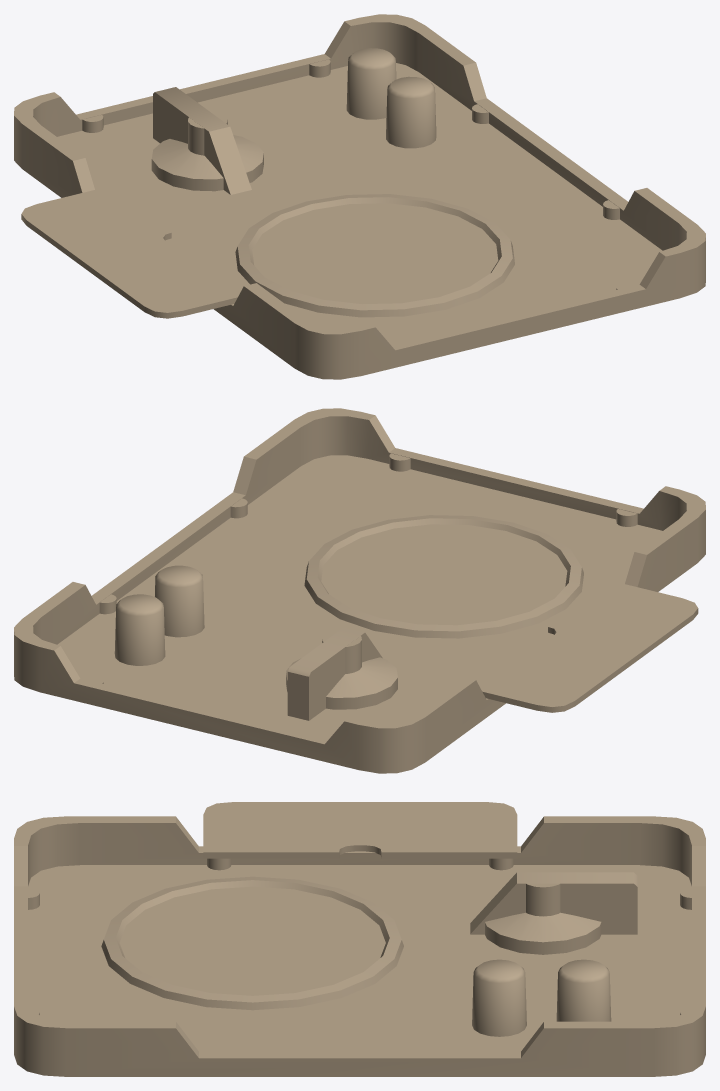
File: Panel.fbx
3 views of the same model, one above another, from view 1: azimuth 30°, elevation 25°; view 2: azimuth 150°, elevation 25°; view 3: azimuth 270°, elevation 25° (orthographic). The views are drawn at different scales.
Visible parts, largest first — view 1: Panel3; view 2: Panel3; view 3: Panel3.
Boxes of the visible parts, x1,y1,x2,y2 form: Panel3: (14, 14, 705, 379); Panel3: (14, 408, 705, 773); Panel3: (14, 802, 705, 1076).
Size of the model in its own units: 53.52 by 6.3 by 62.59.
